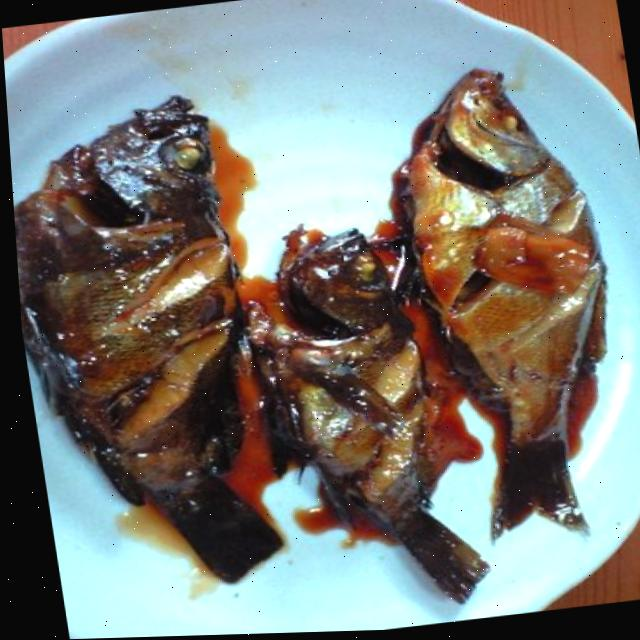熟制海鲜: (3, 37, 640, 640)
